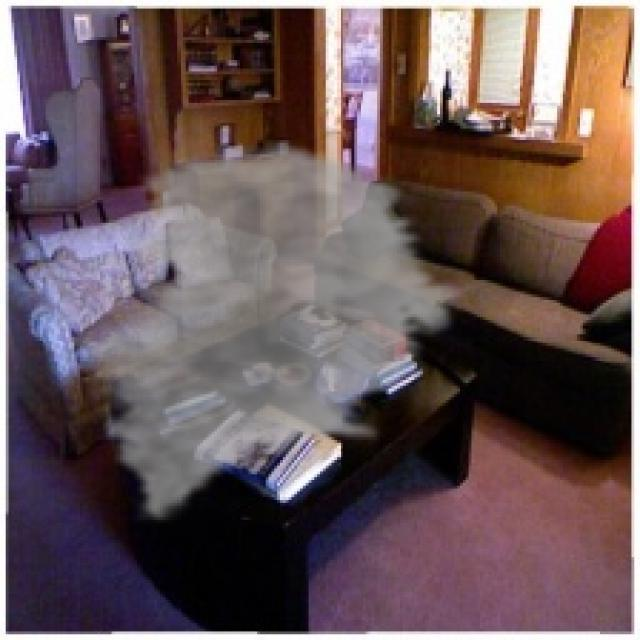Smoke: (77, 140, 469, 526)
